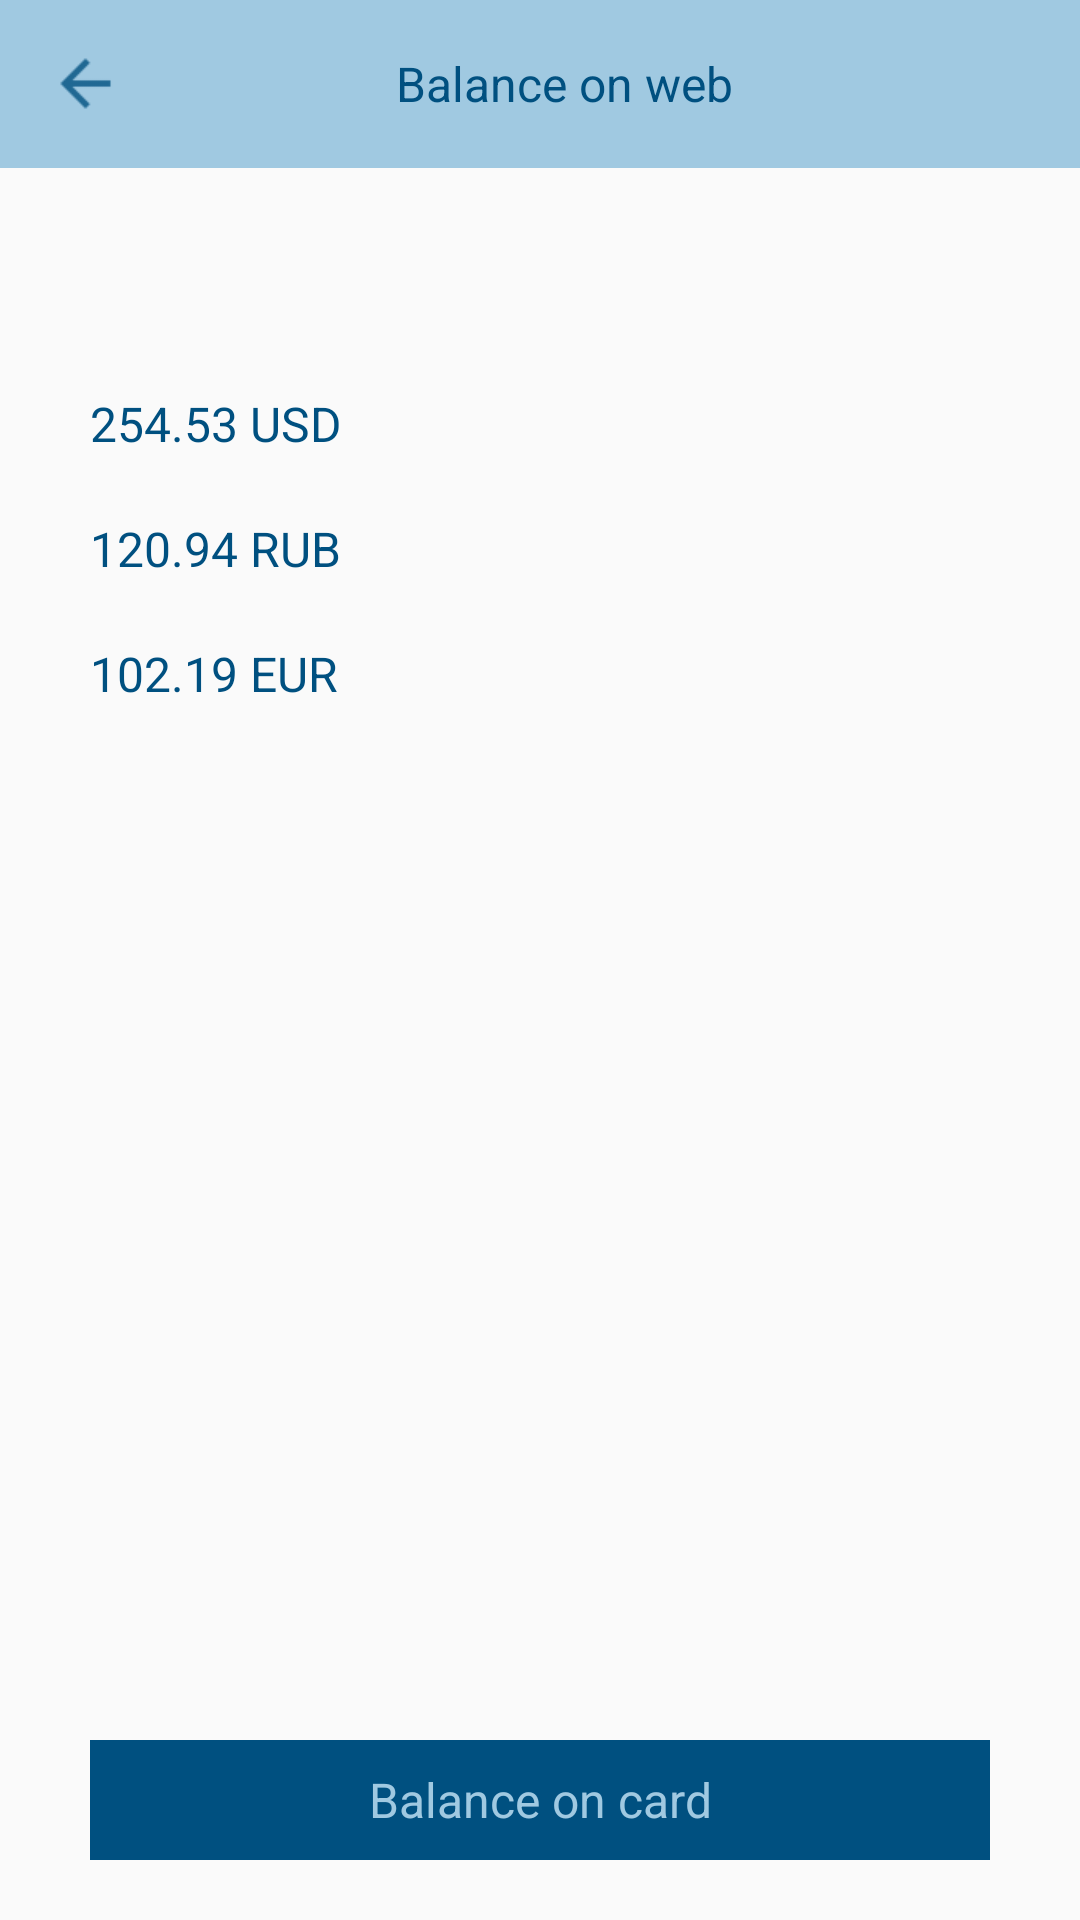

Where icons sit on this 1080×1920 app screen, as {"left": x1, "top": y1, "right": x2, "bottom": y2}:
arrow back: {"left": 60, "top": 58, "right": 111, "bottom": 109}
